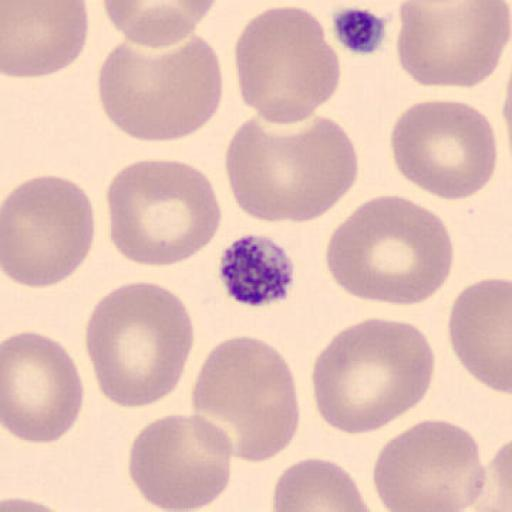Platelet: (216, 231, 299, 309), (330, 4, 390, 57)
RBC: (224, 112, 362, 225), (309, 317, 436, 435), (324, 194, 455, 307), (84, 280, 196, 410), (190, 334, 301, 464), (96, 35, 224, 143), (232, 4, 343, 126), (106, 158, 224, 268), (389, 98, 498, 202), (372, 417, 486, 512), (2, 174, 96, 288), (395, 0, 512, 90), (127, 413, 233, 511), (224, 116, 315, 224), (2, 329, 85, 444), (448, 276, 512, 395), (2, 0, 90, 79), (270, 455, 372, 512), (100, 0, 216, 48), (468, 436, 512, 512), (480, 436, 512, 512), (0, 493, 78, 512)
